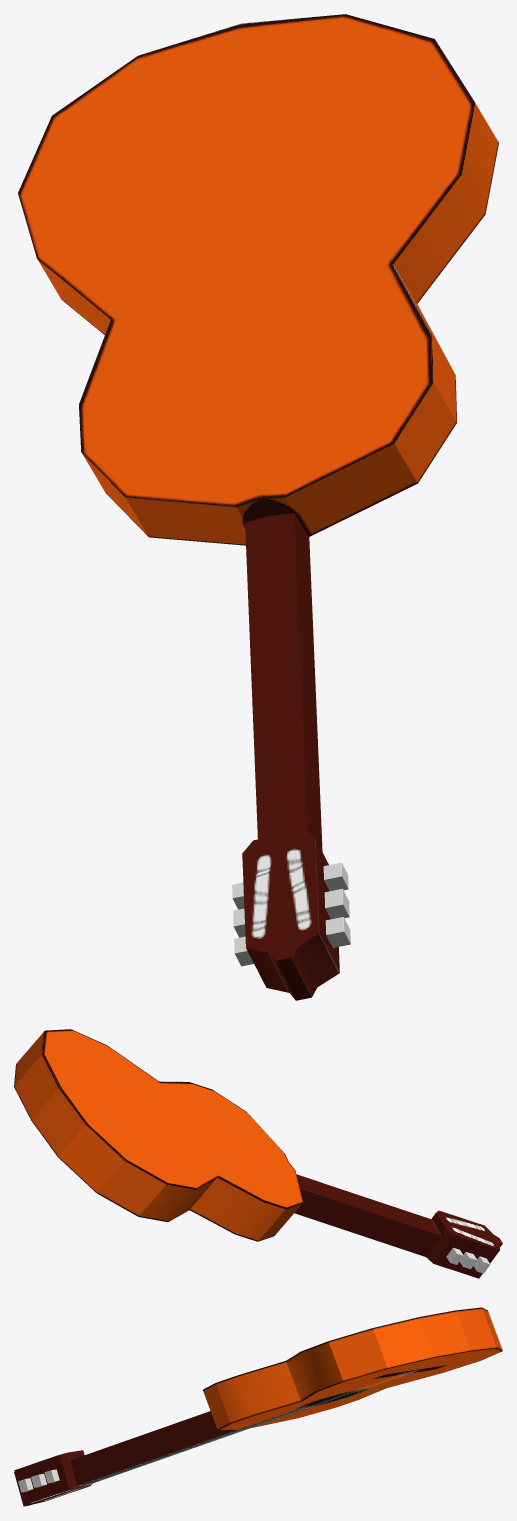
Rendered from Guitarra2_000008.obj.
3 renders of one model, top to bottom at view 1: azimuth 30°, elevation 25°; view 2: azimuth 150°, elevation 25°; view 3: azimuth 270°, elevation 25°, orthographic. The views are drawn at different scales.
Visible parts, largest first — view 1: g2_pPlane4.001; view 2: g2_pPlane4.001; view 3: g2_pPlane4.001.
Part boxes in pixels (x1=…): g2_pPlane4.001: x1=18, y1=14, x2=498, y2=1000; g2_pPlane4.001: x1=14, y1=1029, x2=502, y2=1278; g2_pPlane4.001: x1=14, y1=1307, x2=502, y2=1506.
Bounding box in the file's own units: 7.01 × 7.02 × 10.5.
